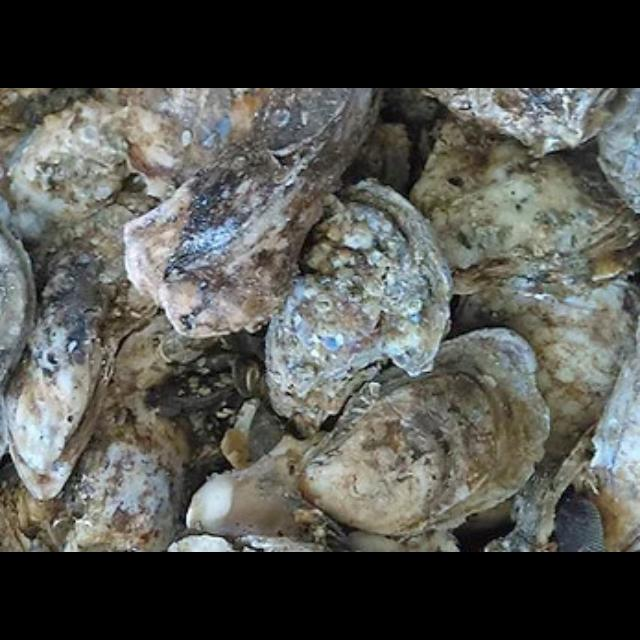Oyster-Closed: (122, 88, 388, 339), (291, 331, 551, 537), (265, 182, 451, 437), (7, 205, 158, 502), (407, 114, 640, 297), (449, 281, 640, 481), (0, 389, 190, 553), (97, 88, 273, 188), (169, 138, 285, 270), (7, 104, 129, 225), (419, 88, 637, 153), (0, 221, 37, 460), (113, 316, 224, 392), (248, 88, 353, 154), (598, 88, 640, 212), (343, 123, 410, 197)
